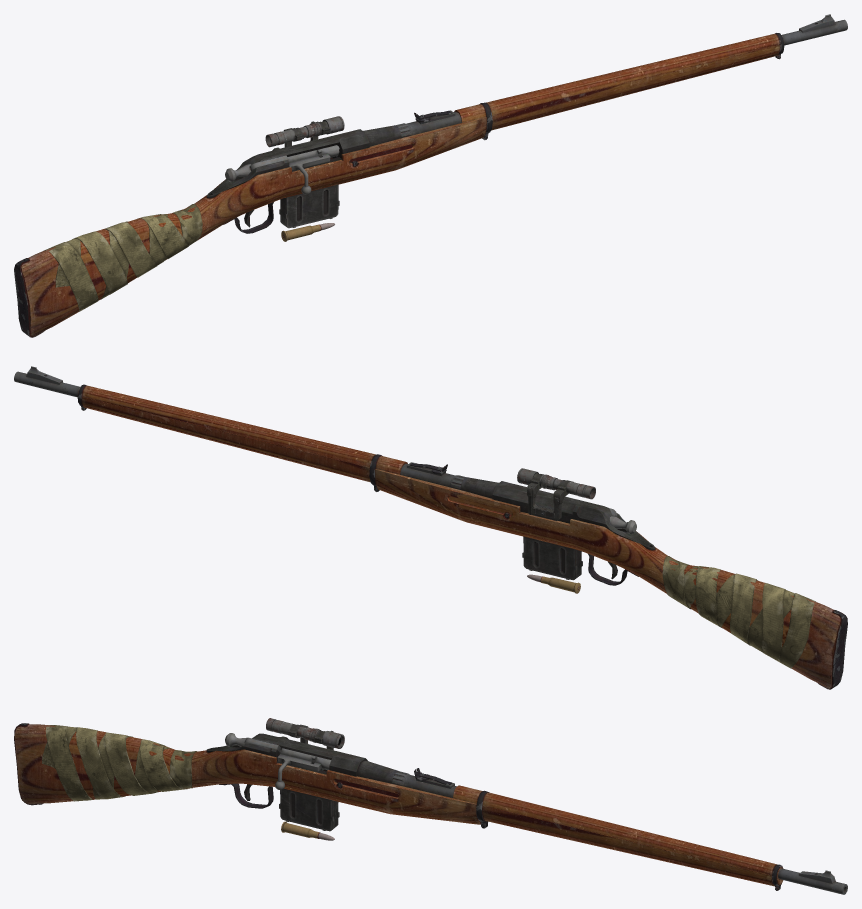
File: sniper-DfH5Ax53.glb
The picture shows the model from 3 angles, top to bottom: view 1: azimuth 30°, elevation 25°; view 2: azimuth 150°, elevation 25°; view 3: azimuth 330°, elevation 25°; orthographic projection.
Parts seen in each view (by area): view 1: bolt_action_rifle_7_62, bolt_action_rifle_7_62_wrap, bolt_action_rifle_7_62_scope, bolt_action_rifle_7_62_bolt_a; view 2: bolt_action_rifle_7_62, bolt_action_rifle_7_62_wrap, bolt_action_rifle_7_62_scope; view 3: bolt_action_rifle_7_62, bolt_action_rifle_7_62_wrap, bolt_action_rifle_7_62_scope, bolt_action_rifle_7_62_bolt_a, bolt_action_rifle_7_62_bullet_54mm, bolt_action_rifle_7_62_bolt_b.
Part boxes in pixels (<box>): bolt_action_rifle_7_62: <box>14,14,847,337</box>; bolt_action_rifle_7_62_wrap: <box>43,203,202,311</box>; bolt_action_rifle_7_62_scope: <box>265,116,344,147</box>; bolt_action_rifle_7_62_bolt_a: <box>287,145,339,194</box>; bolt_action_rifle_7_62: <box>14,366,847,689</box>; bolt_action_rifle_7_62_wrap: <box>662,556,815,668</box>; bolt_action_rifle_7_62_scope: <box>517,468,595,520</box>; bolt_action_rifle_7_62: <box>14,723,847,894</box>; bolt_action_rifle_7_62_wrap: <box>42,725,197,801</box>; bolt_action_rifle_7_62_scope: <box>266,718,344,750</box>; bolt_action_rifle_7_62_bolt_a: <box>275,748,331,790</box>; bolt_action_rifle_7_62_bullet_54mm: <box>281,821,334,840</box>; bolt_action_rifle_7_62_bolt_b: <box>225,733,323,770</box>.
Size of the model in its own units: 1.23 by 0.2045 by 0.0665.
Materials: 3 (3 with a texture image).
